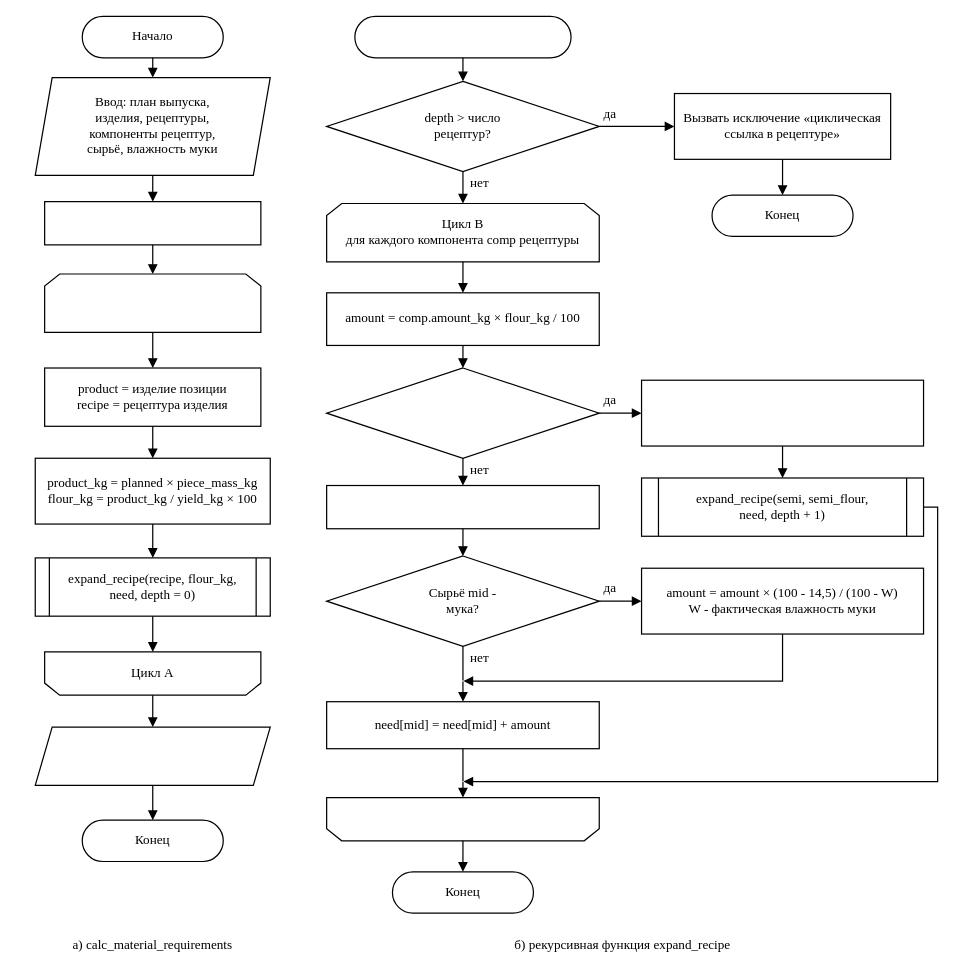
The diagram is 963 pixels wide and 975 high, and some of its shapes have lost their labels. Here are the shapes that lost their labels. From the top down, the centre of each, then its label:
the point at 462,36: Начало expand_recipe
the point at 152,223: need = { }
the point at 152,302: Цикл A для каждой позиции плана
the point at 462,412: comp - полуфабрикат?
the point at 782,412: semi = рецептура полуфабриката semi_flour = amount / semi.yield_kg × 100
the point at 462,506: mid = comp.material_id
the point at 152,756: Вывод: need - потребность в сырье, кг
the point at 462,819: Цикл B
